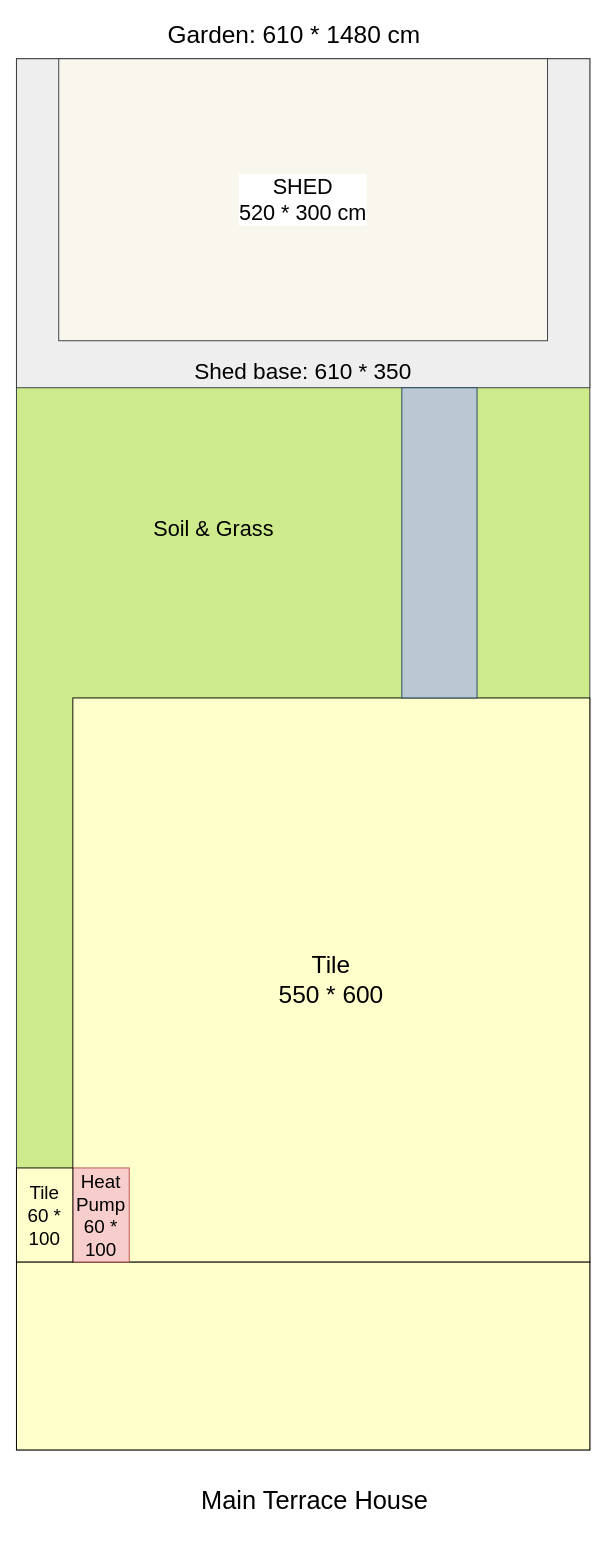
Image size: 606x1547. Some labels were removed from this diagram. The shapes that lost their labels are listed below. From the top down, each one's centre as x and y in pixels, then its label:
[439,542]: Path Old Tile 80 * 330
[303,1355]: Tile 610 * 200
